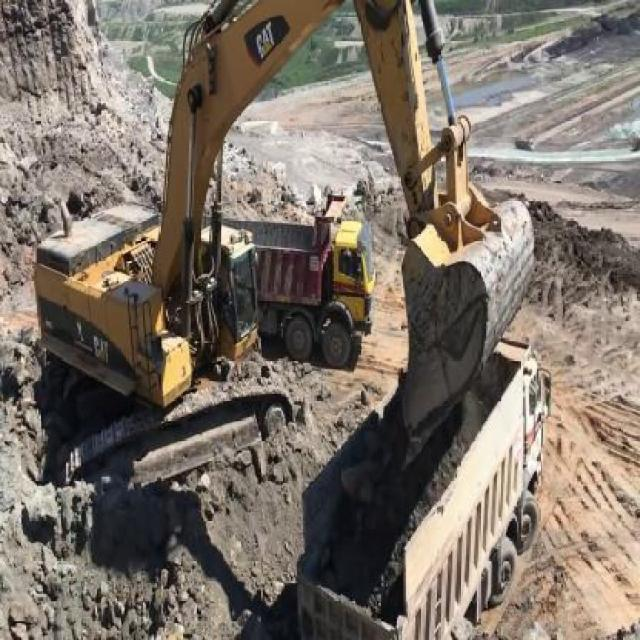Dump Truck: (292, 336, 551, 639), (256, 208, 381, 368)
Excavator: (26, 0, 539, 488)
